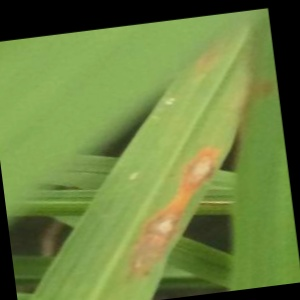Brown_Spot: (115, 201, 199, 275), (177, 135, 225, 190)
